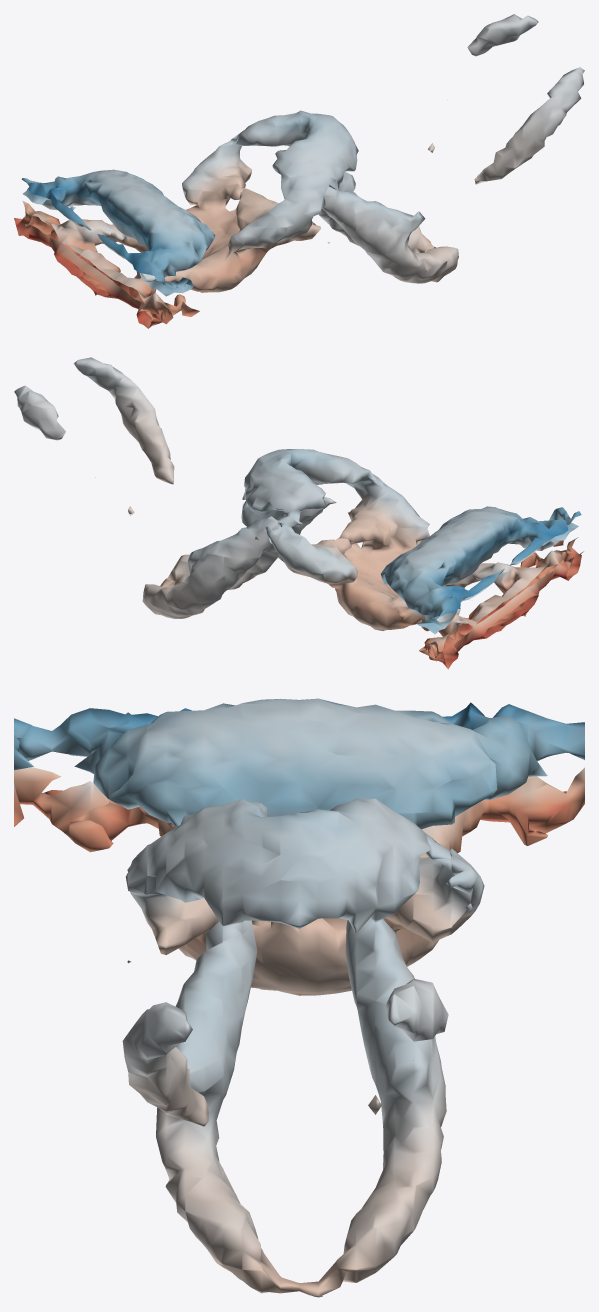
3 views of the same model, one above another, from view 1: azimuth 30°, elevation 25°; view 2: azimuth 150°, elevation 25°; view 3: azimuth 270°, elevation 25° (orthographic). The views are drawn at different scales.
Bounding box in the file's own units: 4.78 × 2.01 × 2.5.
